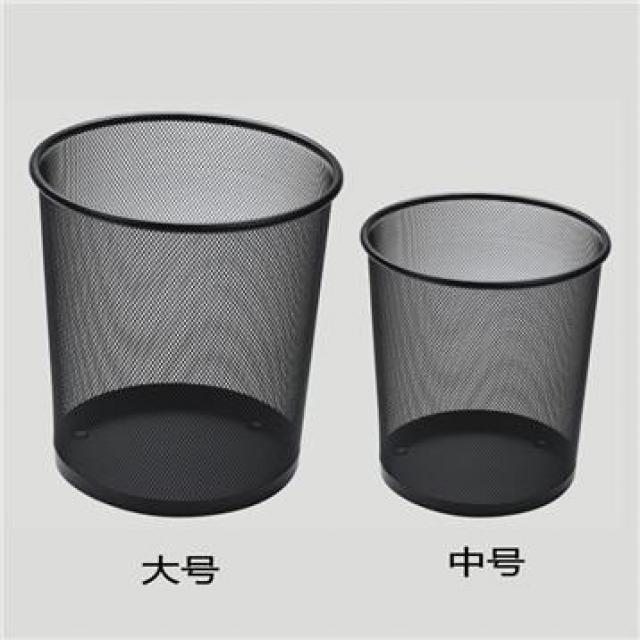Dustbin: (24, 107, 350, 524), (356, 186, 616, 525)
